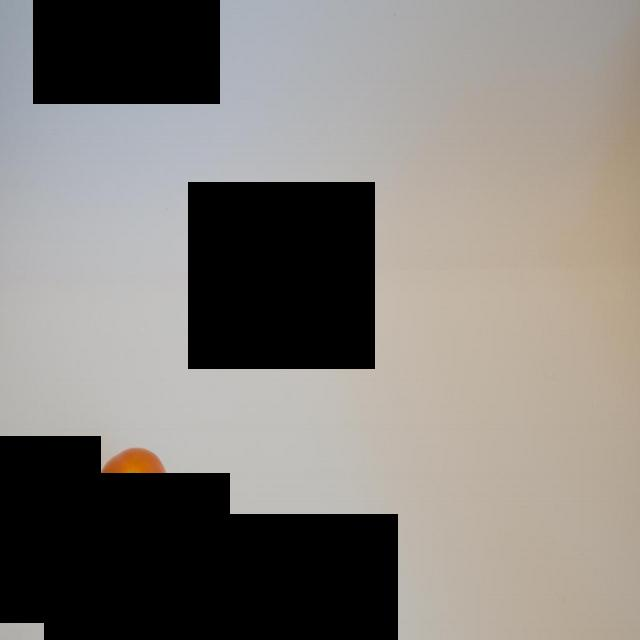tomato: (85, 441, 178, 608)
